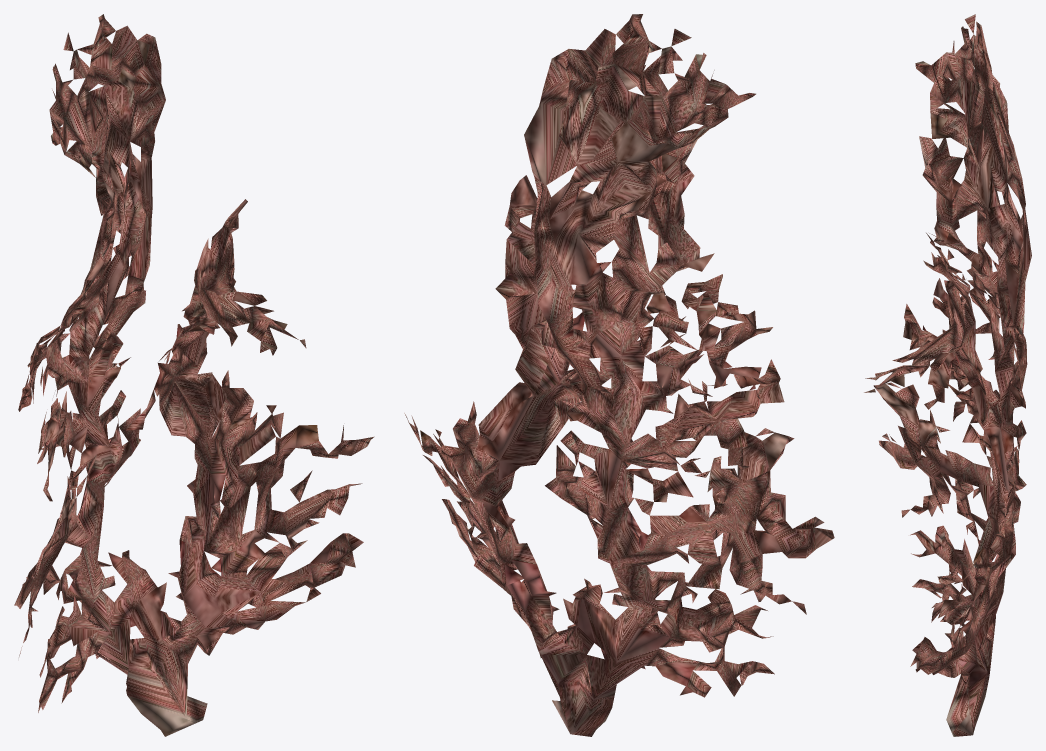
File: stylaster_coral_lod1.glb
The picture shows the model from 3 angles, left to right: view 1: azimuth 30°, elevation 25°; view 2: azimuth 150°, elevation 25°; view 3: azimuth 270°, elevation 25°; orthographic projection. The views are drawn at different scales.
Visible parts, largest first — view 1: Object_4, Object_5; view 2: Object_4, Object_5; view 3: Object_4, Object_5.
Boxes of the visible parts, x1,y1,x2,y2 form: Object_4: [14, 14, 374, 736]; Object_5: [18, 292, 219, 580]; Object_4: [404, 14, 834, 736]; Object_5: [646, 274, 772, 399]; Object_4: [864, 14, 1031, 736]; Object_5: [889, 233, 987, 442].
Size of the model in its own units: 0.0942 by 0.1673 by 0.0375.
Materials: 1 (1 with a texture image).
